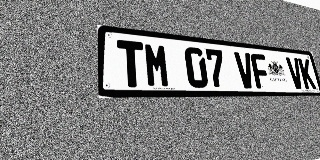0: (184, 46, 209, 88)
7: (204, 48, 228, 88)
F: (250, 53, 271, 89)
K: (298, 58, 316, 89)
M: (143, 42, 171, 88)
T: (117, 40, 146, 87)
V: (234, 52, 256, 88), (285, 57, 305, 89)
